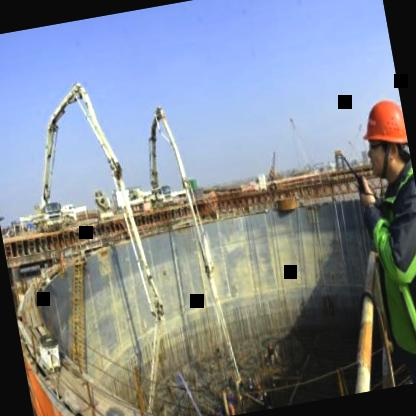helmet: (352, 88, 414, 190)
